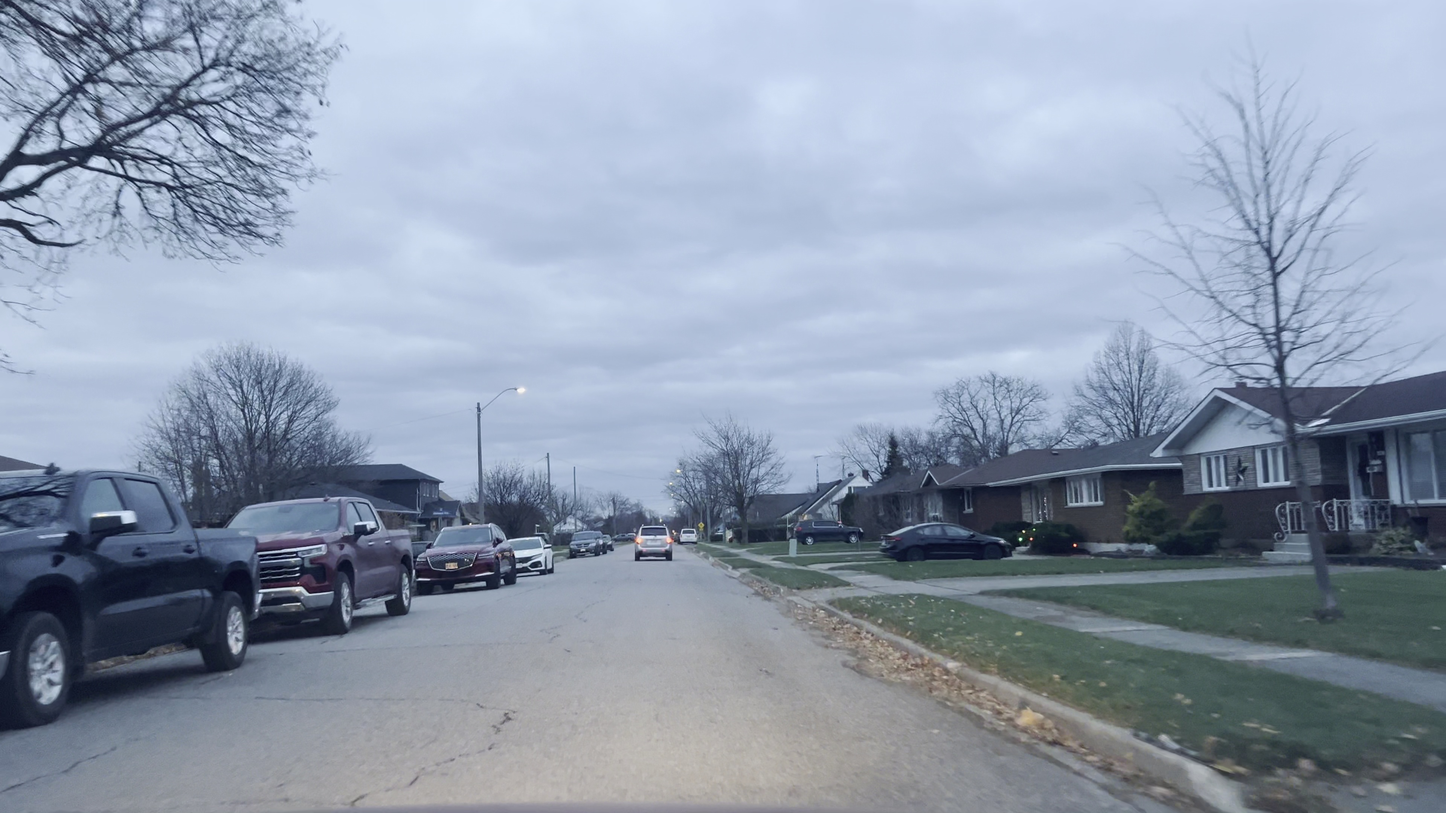cracks: (350, 764, 430, 808), (470, 691, 523, 748)
